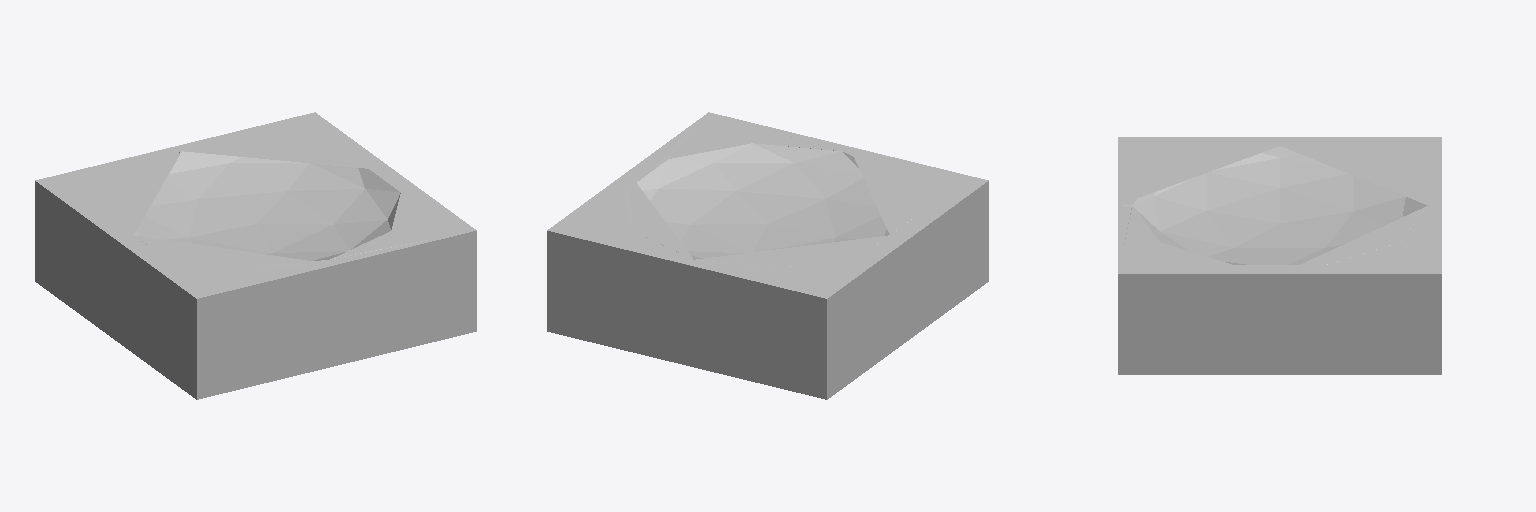
Rendered from plate.obj.
The picture shows the model from 3 angles: view 1: azimuth 30°, elevation 25°; view 2: azimuth 150°, elevation 25°; view 3: azimuth 270°, elevation 25°; orthographic projection.
Parts seen in each view (by area): view 1: Plate; view 2: Plate; view 3: Plate.
Part boxes in pixels (x1,y1,x2,y2): Plate: (35,112,476,399); Plate: (547,112,988,399); Plate: (1118,137,1441,374).
Bounding box in the file's own units: 16 × 5.52 × 16.